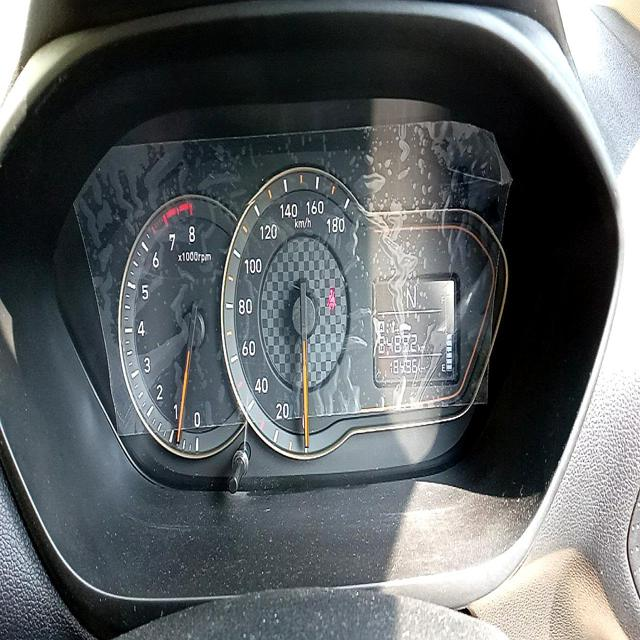odometer: (387, 356, 420, 379)
